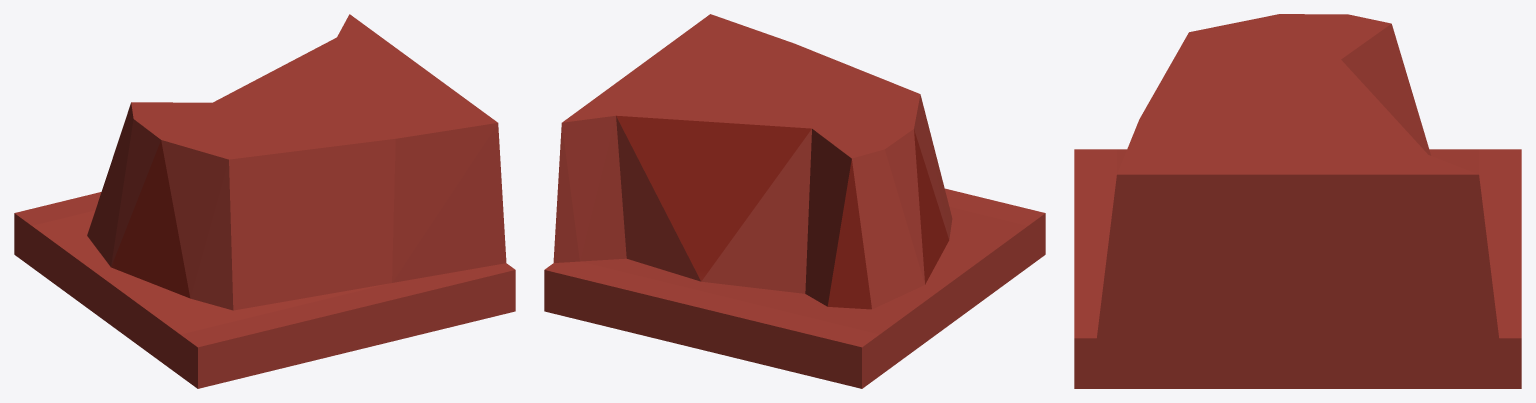
The model's file is Field_13.fbx.
3 renders of one model, left to right at view 1: azimuth 30°, elevation 25°; view 2: azimuth 150°, elevation 25°; view 3: azimuth 270°, elevation 25°, orthographic. The views are drawn at different scales.
Parts seen in each view (by area): view 1: Plane.014; view 2: Plane.014; view 3: Plane.014.
Boxes of the visible parts, x1=… form: Plane.014: x1=14, y1=14, x2=515, y2=388; Plane.014: x1=544, y1=14, x2=1045, y2=388; Plane.014: x1=1074, y1=14, x2=1521, y2=388.
Size of the model in its own units: 400 by 212 by 400.
